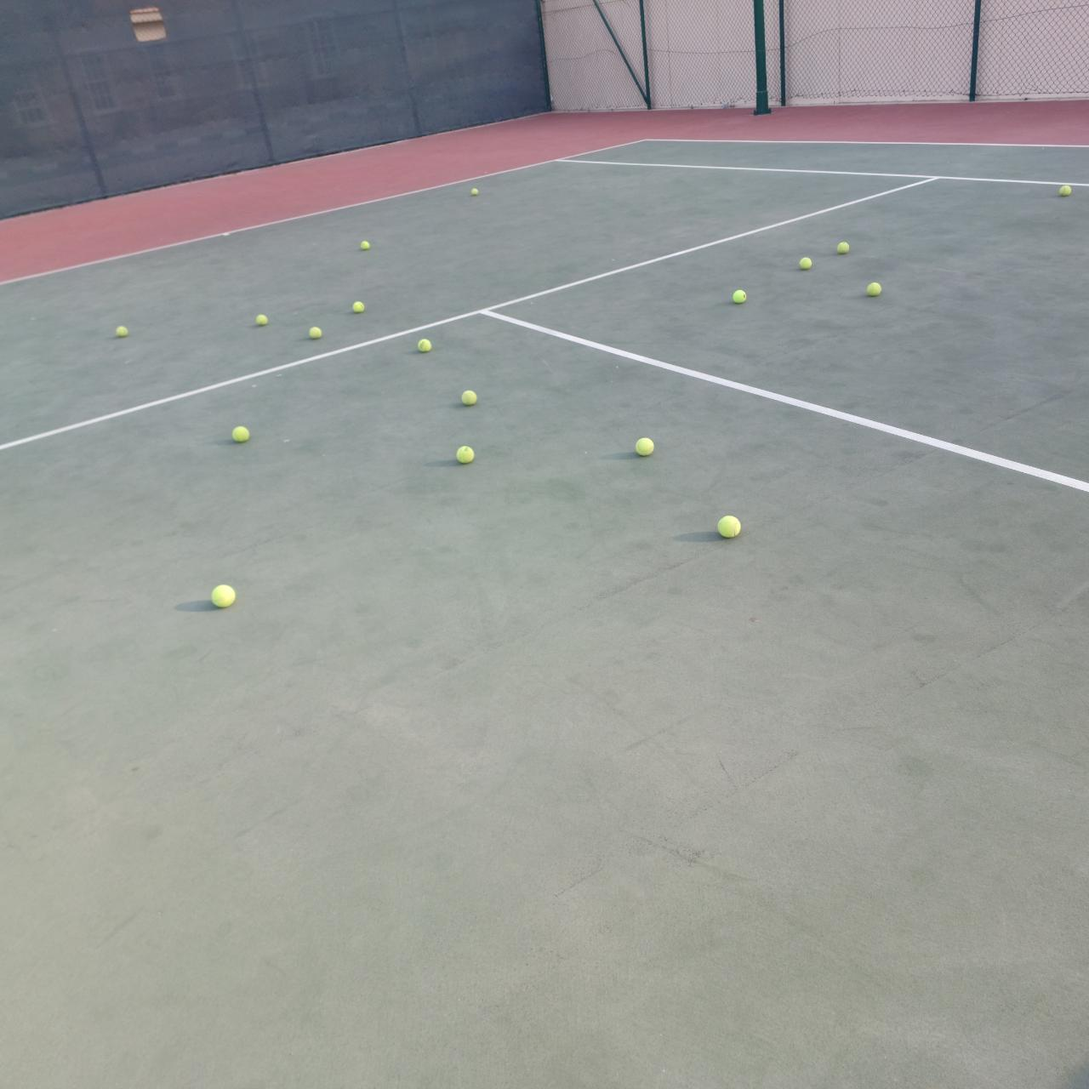tennis-ball: (209, 581, 237, 608), (716, 513, 741, 539), (633, 435, 654, 456), (456, 445, 475, 464), (231, 424, 249, 442), (460, 389, 477, 405), (866, 280, 881, 296), (733, 288, 747, 304), (417, 338, 432, 352), (798, 256, 812, 270), (837, 241, 849, 255), (351, 301, 365, 313), (309, 327, 322, 339), (1059, 185, 1072, 196), (256, 314, 267, 326), (117, 326, 129, 337), (360, 241, 369, 249), (471, 188, 479, 197)
